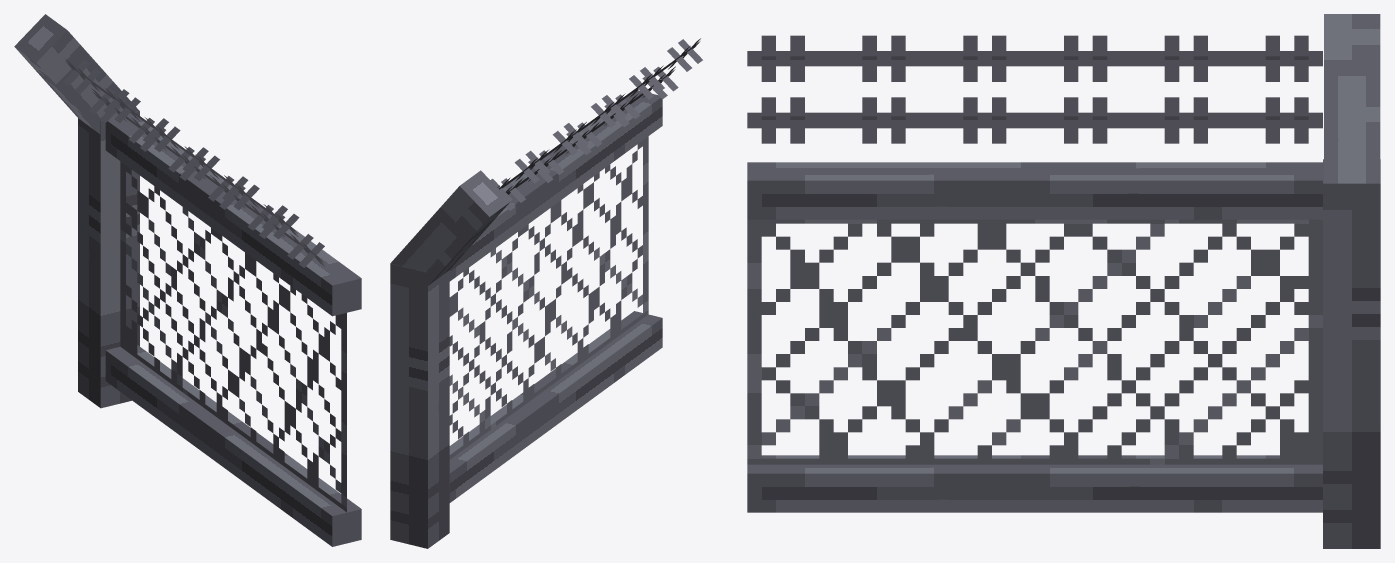
File: fence3_3.gltf
3 views of the same model, side by side, from view 1: azimuth 30°, elevation 25°; view 2: azimuth 150°, elevation 25°; view 3: azimuth 270°, elevation 25° (orthographic). The views are drawn at different scales.
Parts seen in each view (by area): view 1: cube (×8); view 2: cube (×8); view 3: cube (×6).
Boxes of the visible parts, x1=… form: cube (×8): x1=14, y1=14, x2=361, y2=546; cube (×8): x1=390, y1=38, x2=702, y2=548; cube (×6): x1=747, y1=14, x2=1380, y2=548.
Size of the model in its own units: 1.23 by 4.39 by 5.14.
Materials: 1 (1 with a texture image).
